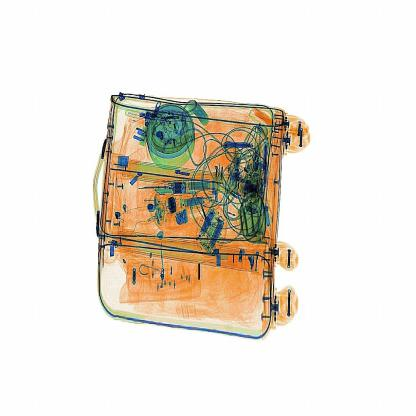knife: (260, 137, 276, 190)
